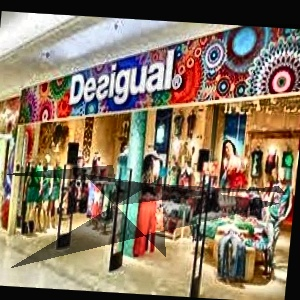desigual: (97, 75, 283, 108)
